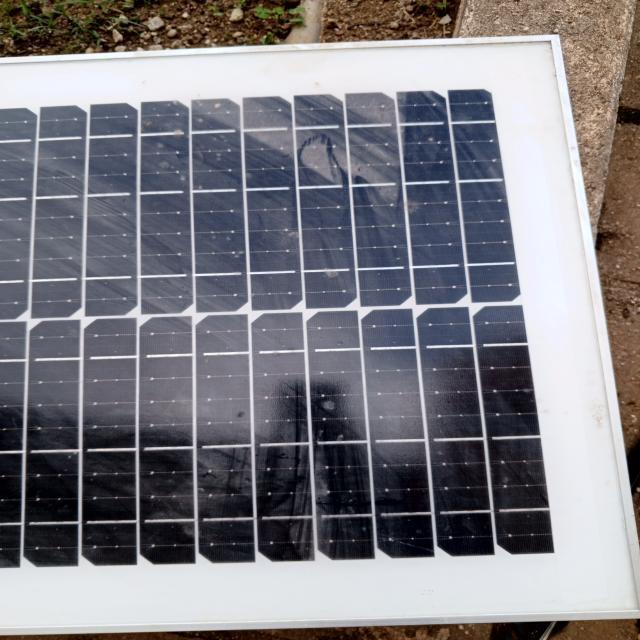Surface Contaminant: (105, 86, 433, 222)
